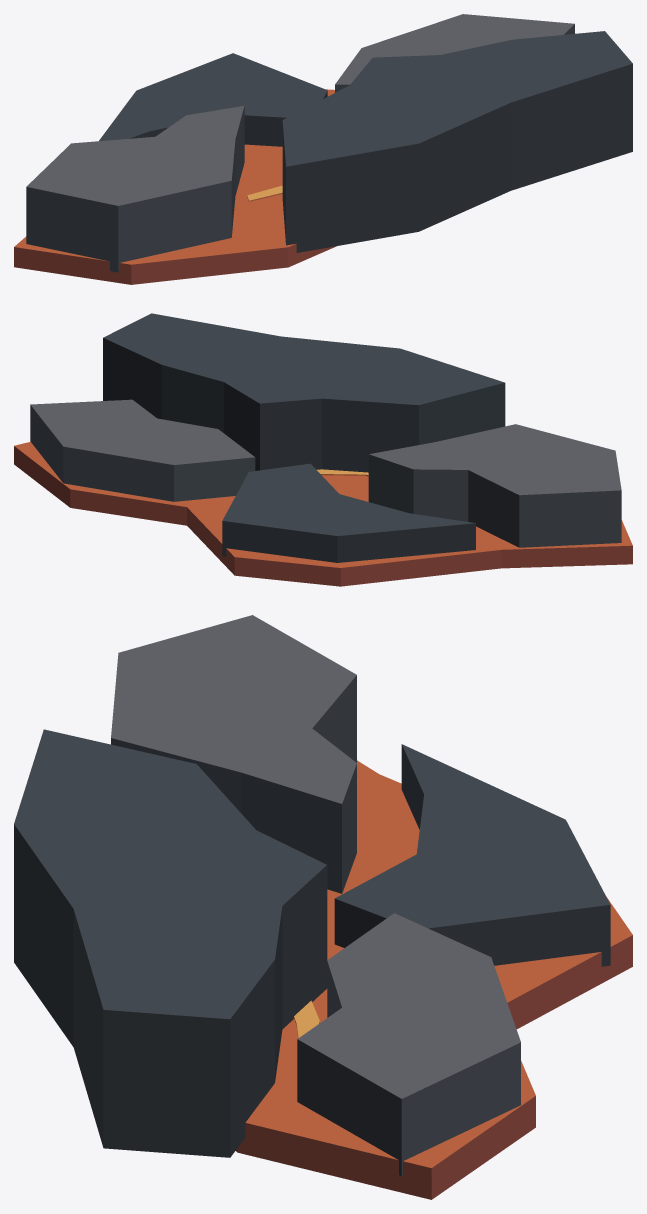
File: AE_Lava_MagmaRift.fbx
The picture shows the model from 3 angles, top to bottom: view 1: azimuth 30°, elevation 25°; view 2: azimuth 150°, elevation 25°; view 3: azimuth 270°, elevation 25°; orthographic projection. The views are drawn at different scales.
Parts seen in each view (by area): view 1: AE_Lava_MagmaRift; view 2: AE_Lava_MagmaRift; view 3: AE_Lava_MagmaRift.
Boxes of the visible parts, x1,y1,x2,y2 form: AE_Lava_MagmaRift: (14, 14, 632, 284); AE_Lava_MagmaRift: (14, 313, 632, 586); AE_Lava_MagmaRift: (14, 615, 632, 1199).
Bounding box in the file's own units: 1.5 × 0.23 × 0.83.
